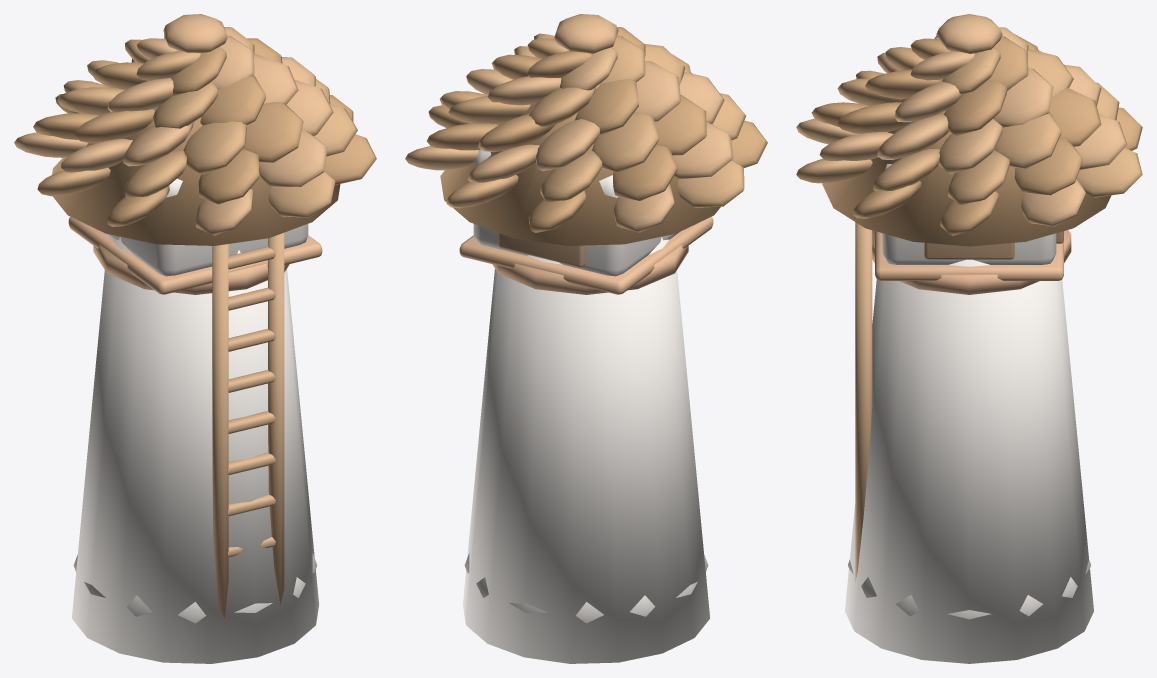
File: cozy_watchtower_A.glb
3 views of the same model, side by side, from view 1: azimuth 30°, elevation 25°; view 2: azimuth 150°, elevation 25°; view 3: azimuth 270°, elevation 25° (orthographic).
Visible parts, largest first — view 1: Shaft, ThatchCone, RailL, RailR, Cabin, Sill, Th2_8, Th2_7, Th3_8, Th3_7, Th1_6, Th4_8 (+31 smaller); view 2: Shaft, ThatchCone, Sill, Cabin, Th2_4, Band, Th3_4, Th1_3, Th2_3, Th4_5, Th2_5, Th3_5 (+25 smaller); view 3: Shaft, ThatchCone, RailR, Sill, Cabin, Th2_1, Th3_1, Th1_0, Th1_1, Th2_0, Band, Th2_2 (+28 smaller).
Boxes of the visible parts, x1,y1,x2,y2 form: Shaft: [71, 237, 319, 663]; ThatchCone: [52, 107, 340, 245]; RailL: [212, 244, 228, 618]; RailR: [268, 233, 284, 604]; Cabin: [102, 178, 308, 276]; Sill: [68, 217, 322, 294]; Th2_8: [243, 102, 303, 162]; Th2_7: [183, 121, 246, 174]; Th3_8: [259, 130, 327, 187]; Th3_7: [198, 149, 259, 204]; Th1_6: [200, 75, 265, 125]; Th4_8: [268, 170, 335, 217]; Shaft: [462, 237, 710, 663]; ThatchCone: [440, 84, 720, 245]; Sill: [459, 217, 713, 294]; Cabin: [473, 149, 679, 276]; Th2_4: [592, 112, 658, 172]; Band: [492, 245, 688, 294]; Th3_4: [613, 145, 676, 200]; Th1_3: [575, 79, 638, 135]; Th2_3: [536, 119, 599, 171]; Th4_5: [677, 160, 744, 207]; Th2_5: [654, 95, 706, 155]; Th3_5: [673, 121, 733, 179]; Shaft: [845, 259, 1093, 663]; ThatchCone: [822, 79, 1111, 246]; RailR: [855, 222, 872, 581]; Sill: [875, 231, 1063, 280]; Cabin: [882, 164, 1056, 264]; Th2_1: [994, 111, 1061, 168]; Th3_1: [1014, 138, 1082, 195]; Th1_0: [944, 80, 1006, 135]; Th1_1: [993, 68, 1053, 127]; Th2_0: [938, 118, 1002, 173]; Band: [872, 230, 1071, 294]; Th2_2: [1049, 87, 1101, 146].
Bounding box in the file's own units: 1.93 × 3.57 × 1.84.
